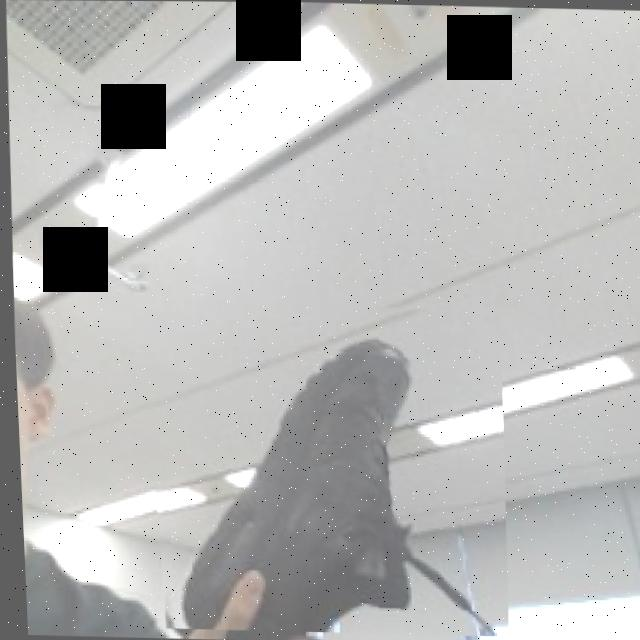shoe: (131, 289, 508, 635)
